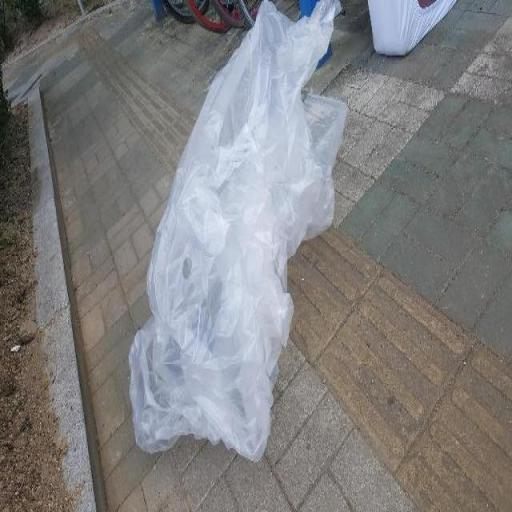plastic-bag: (128, 0, 349, 458)
